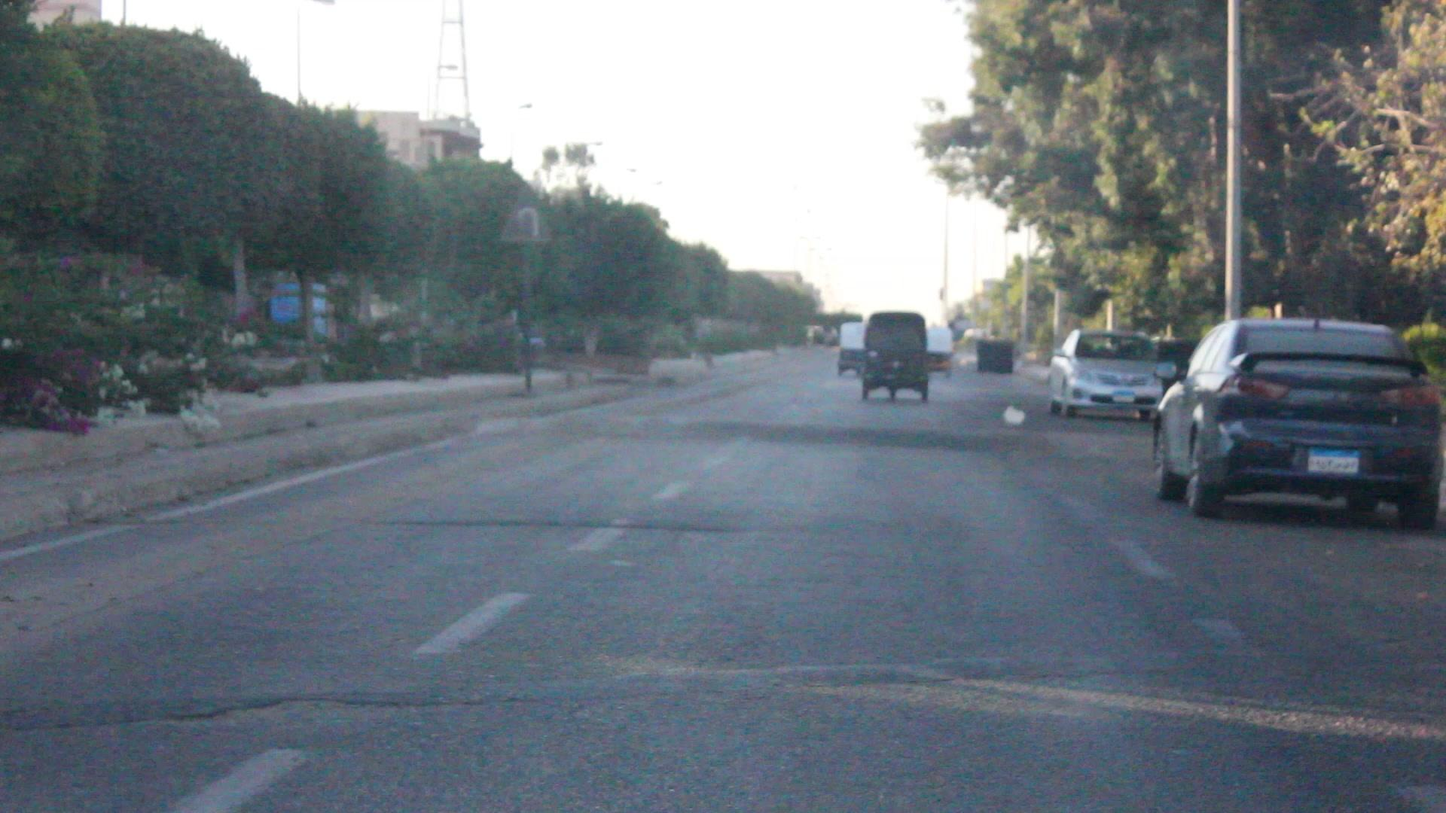Bump: (522, 408, 1071, 455)
